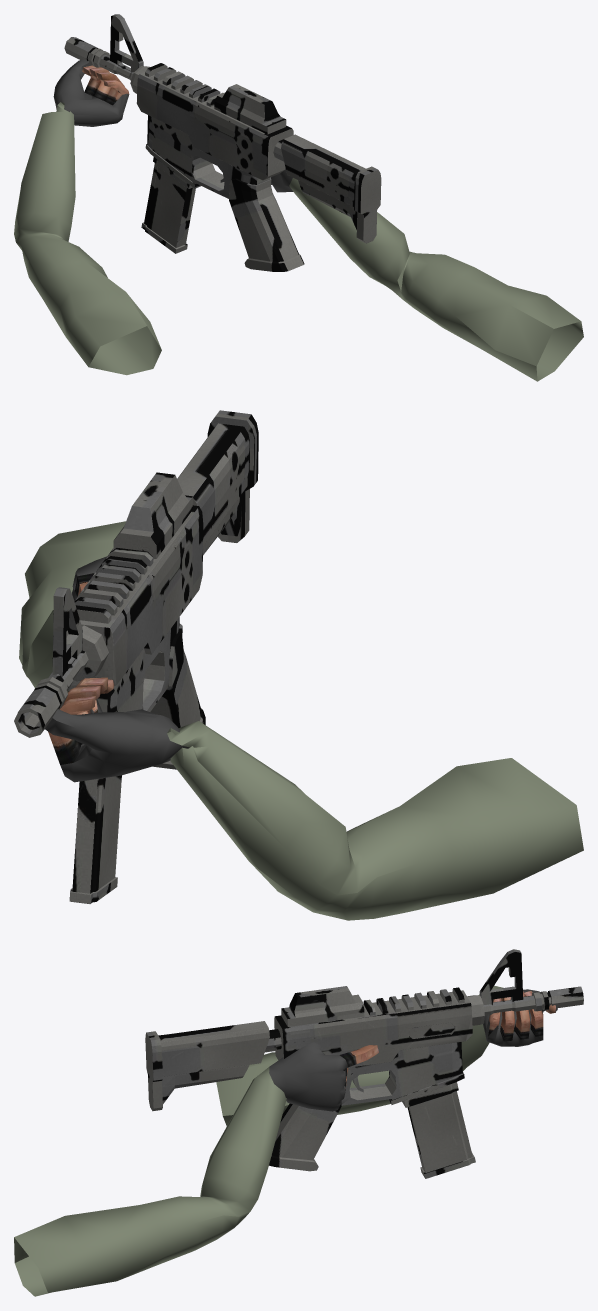
The model's file is gun_m4.glb.
3 views of the same model, one above another, from view 1: azimuth 30°, elevation 25°; view 2: azimuth 150°, elevation 25°; view 3: azimuth 270°, elevation 25° (orthographic). The views are drawn at different scales.
Parts seen in each view (by area): view 1: body_sleeve, body_QUATP, mag_QUATP, body_glove, body_ARMS; view 2: body_sleeve, body_QUATP, body_glove, mag_QUATP, body_ARMS; view 3: body_QUATP, body_sleeve, body_glove, mag_QUATP, body_ARMS.
Part boxes in pixels (x1,y1,x2,y2): body_sleeve: [14, 102, 583, 381]; body_QUATP: [64, 14, 381, 271]; mag_QUATP: [141, 157, 195, 253]; body_glove: [53, 59, 293, 192]; body_ARMS: [82, 65, 129, 105]; body_sleeve: [19, 521, 583, 920]; body_QUATP: [14, 410, 258, 769]; body_glove: [45, 556, 189, 782]; mag_QUATP: [69, 775, 121, 903]; body_ARMS: [48, 573, 114, 764]; body_QUATP: [145, 949, 583, 1171]; body_sleeve: [14, 985, 503, 1296]; body_glove: [269, 989, 557, 1111]; mag_QUATP: [402, 1082, 475, 1178]; body_ARMS: [339, 991, 555, 1090].
Bounding box in the file's own units: 79.23 × 44.06 × 93.32.
Materials: 4 (2 with a texture image).
